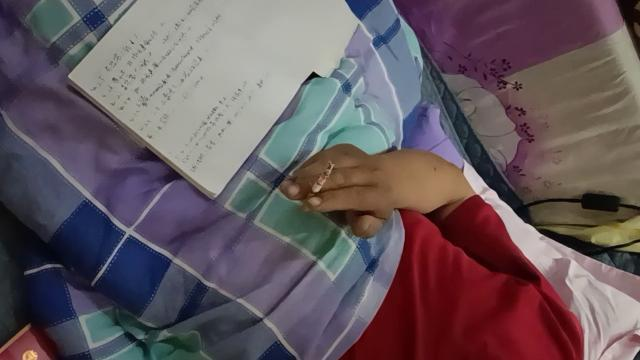Smoking: (302, 162, 336, 212)
